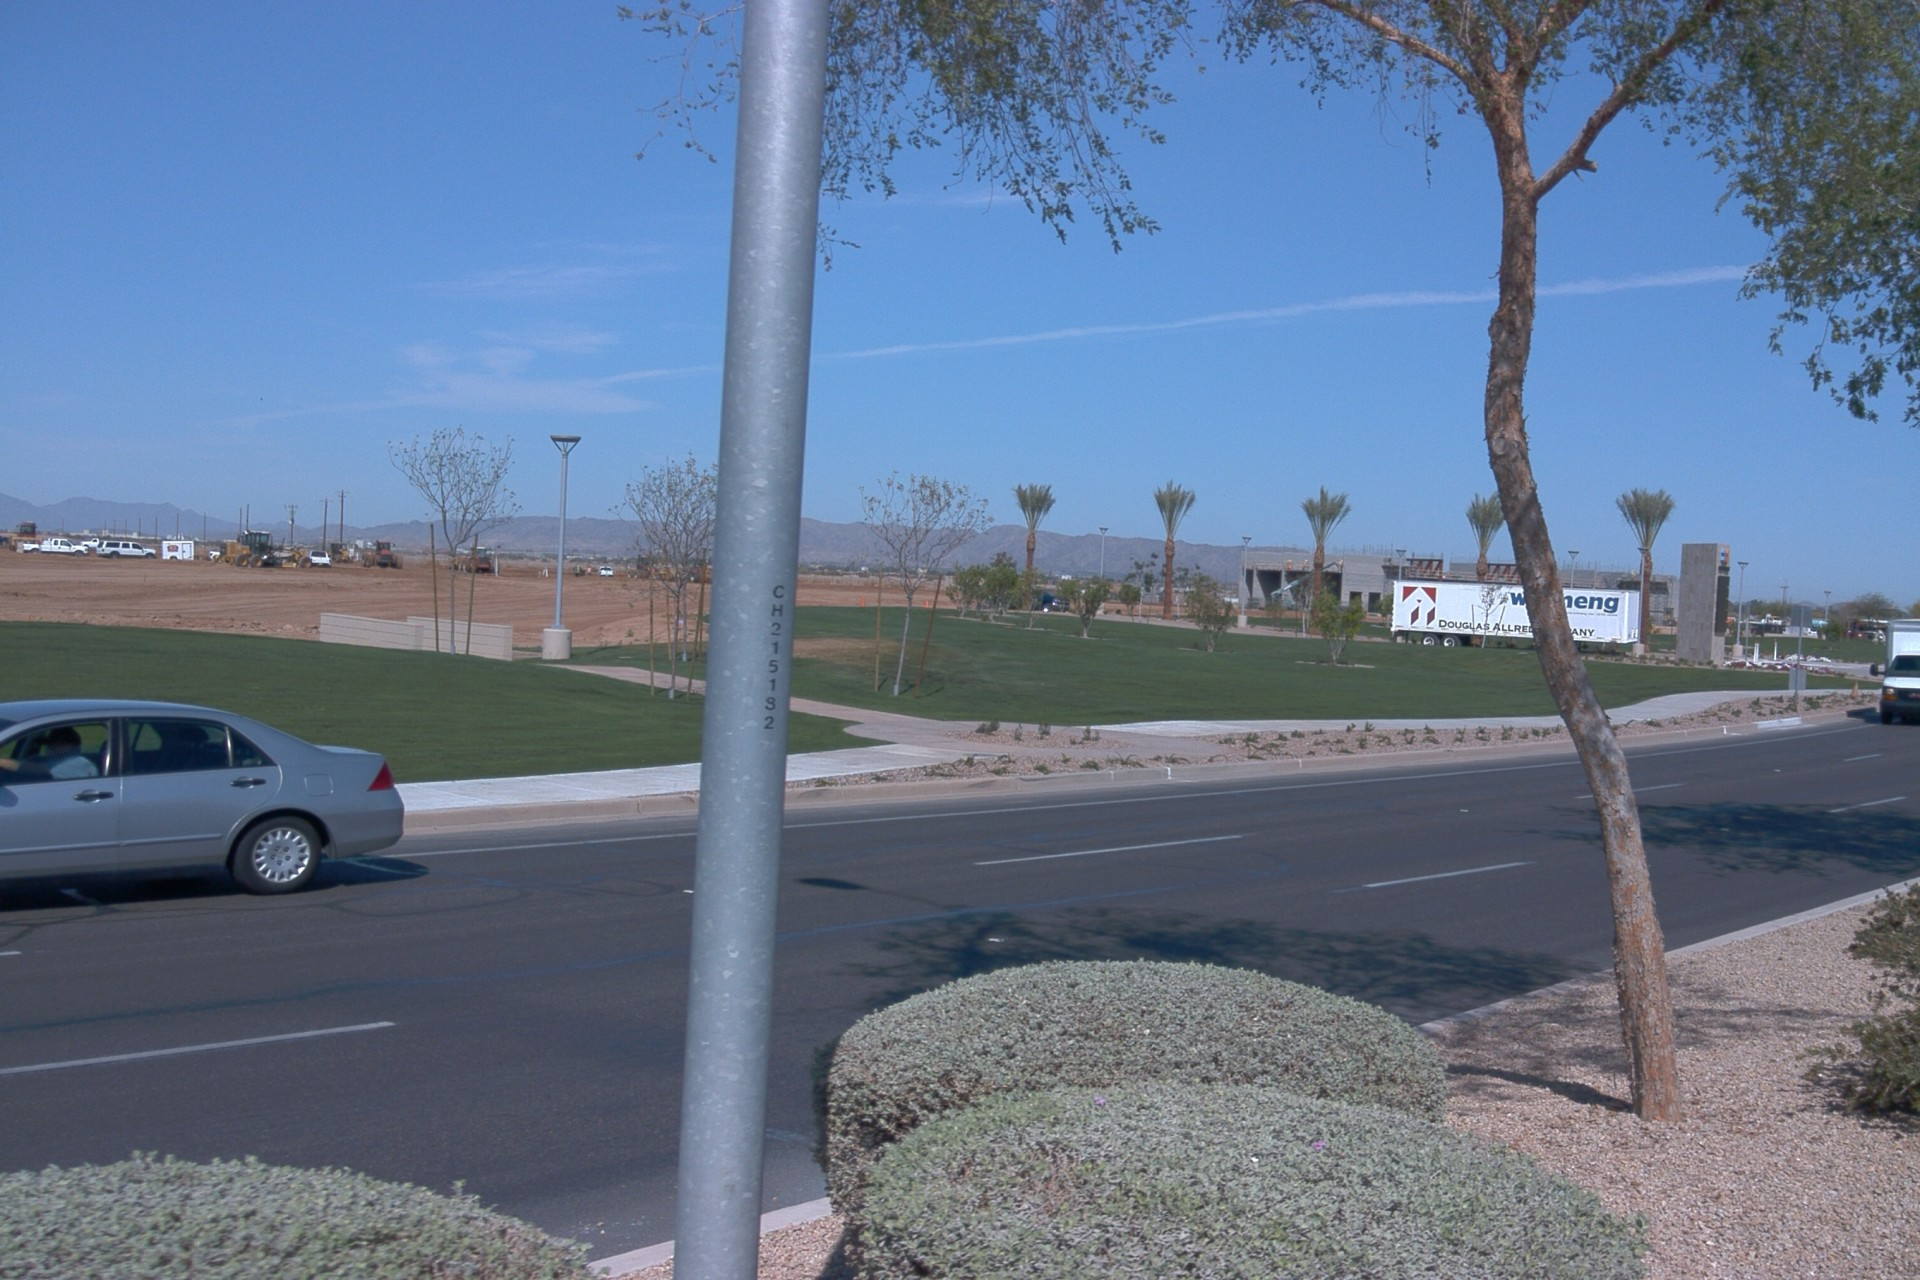TYPE_PEDESTRIAN: (585, 562, 593, 578), (573, 564, 581, 577)
TYPE_VEHICLE: (0, 696, 407, 895), (1387, 577, 1646, 655), (1868, 619, 1920, 728), (206, 524, 318, 569), (1267, 557, 1342, 610), (995, 587, 1071, 610), (444, 548, 501, 576), (360, 540, 405, 572), (22, 536, 90, 556), (93, 537, 155, 556), (157, 536, 193, 556), (328, 544, 354, 565), (309, 549, 332, 567), (80, 537, 102, 551), (210, 549, 227, 563), (599, 567, 617, 580), (0, 534, 11, 548)
